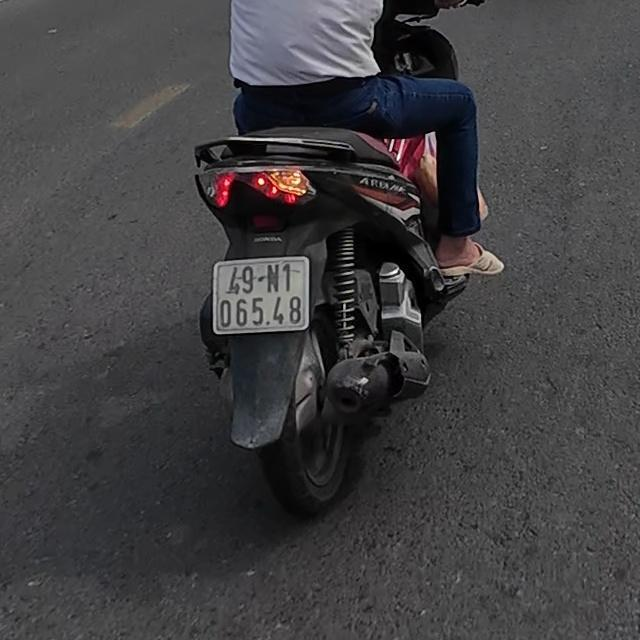motorcycle: (186, 122, 472, 506)
plate: (209, 256, 313, 332)
